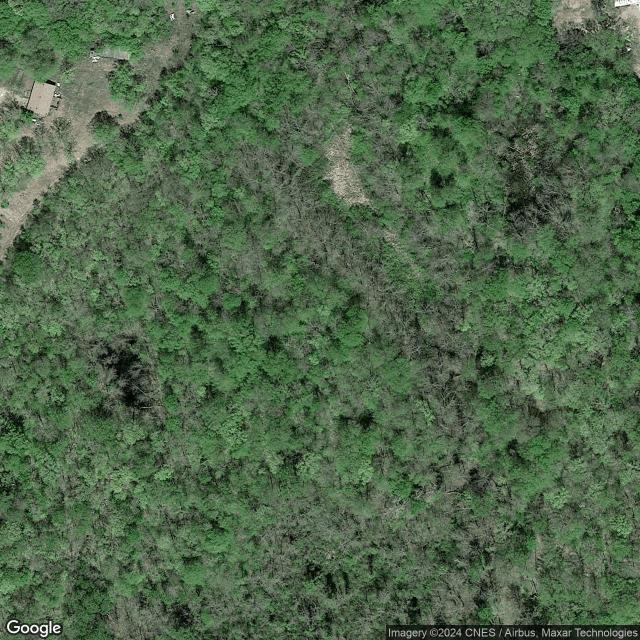Propane: (32, 118, 37, 123)
